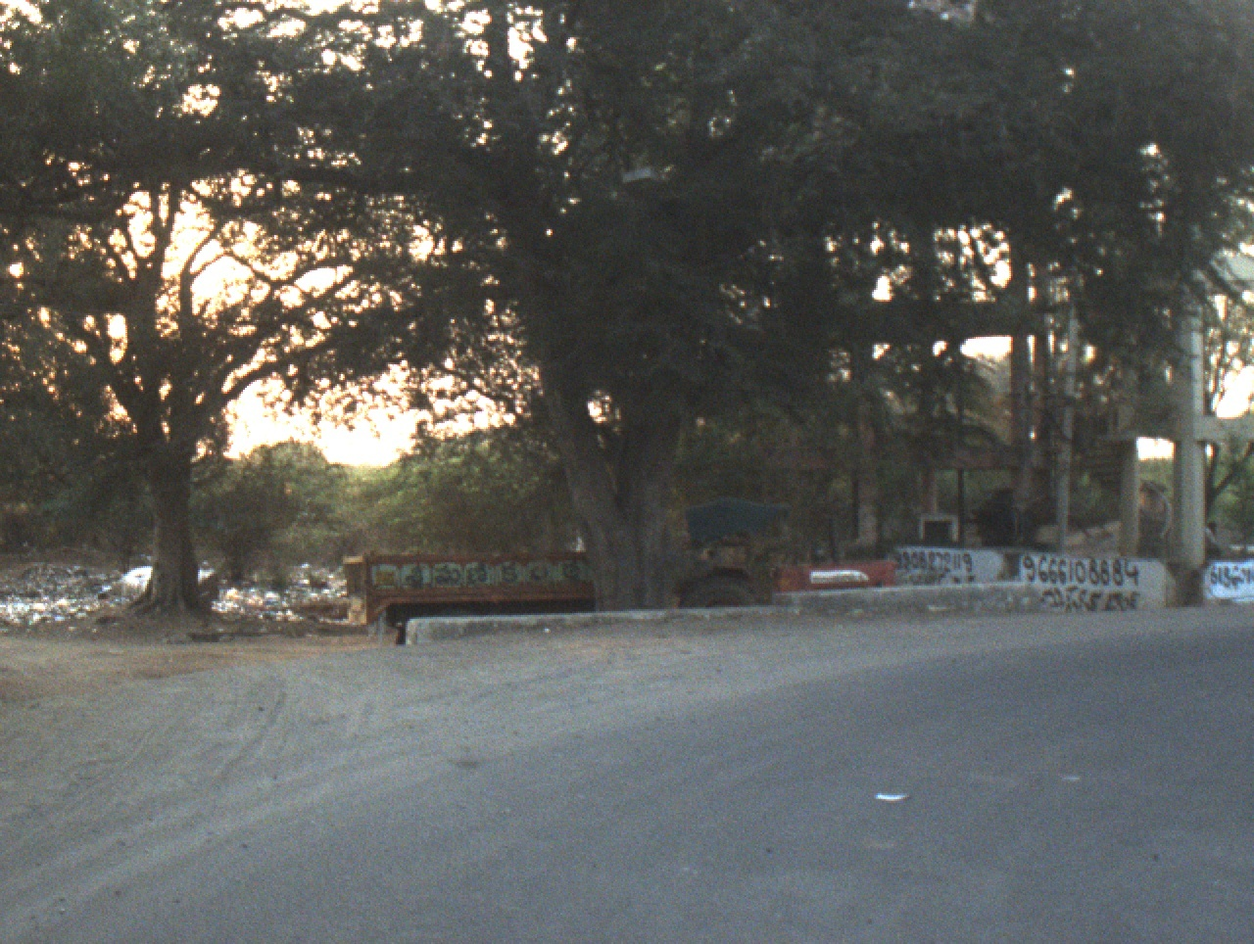person: (1204, 518, 1224, 559)
vehicle fallback: (340, 490, 896, 633)
